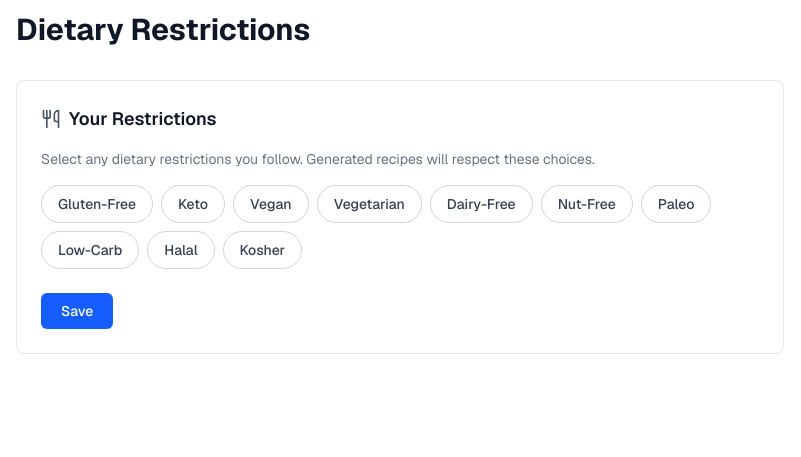
it: DietaryRestrictionsPage › shows a success toast after a successful save
Click the switch labelled "Vegan": [271, 204] box [233,185,309,223]
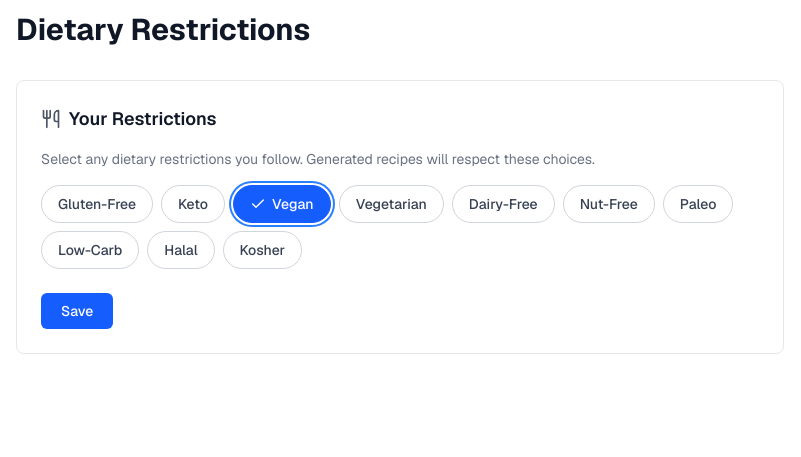
Click the button "Save": [77, 311] box [41,293,113,329]
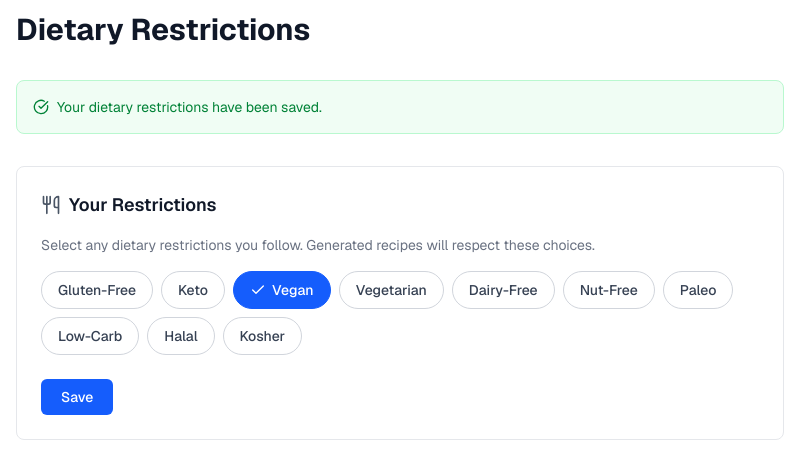
Check: the message shows "saved", box [57,98,322,116]
